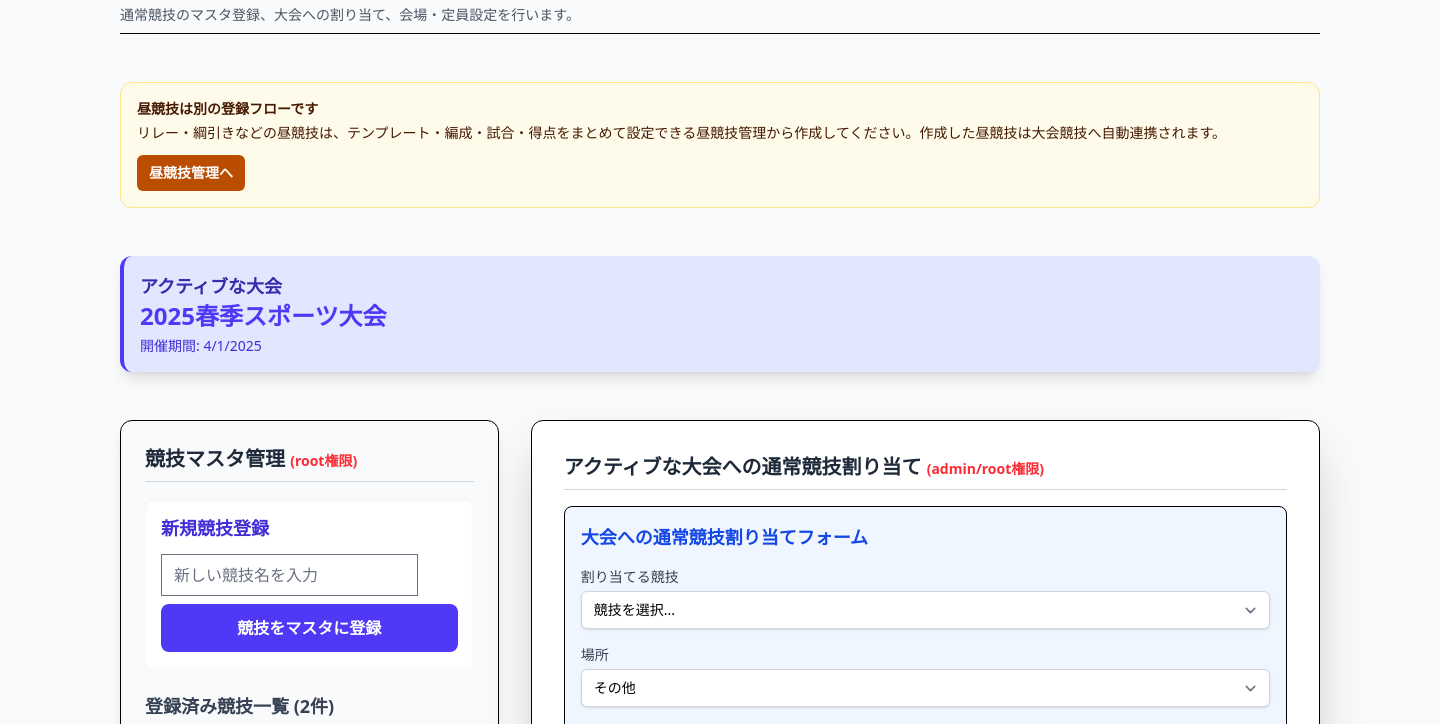
Scenario: Sport Management Page › 場所がその他のとき具体的な場所を入力して表示できること
The image size is (1440, 724).
Select "バレーボール" in the dropdown labelled "割り当てる競技" at x=925, y=610, box 581,591 -> 1270,629
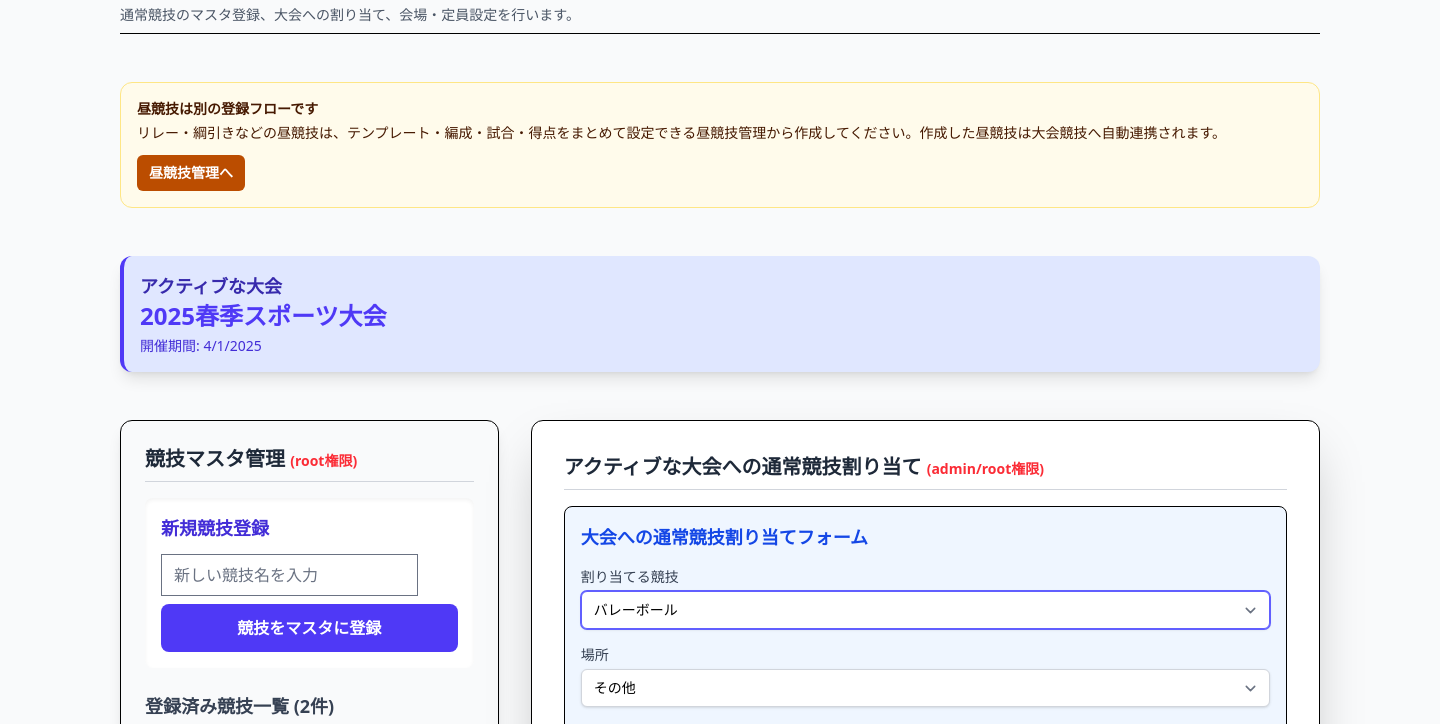
Select "その他" in the dropdown labelled "場所" at x=925, y=688, box 581,669 -> 1270,707
(page scrolled)
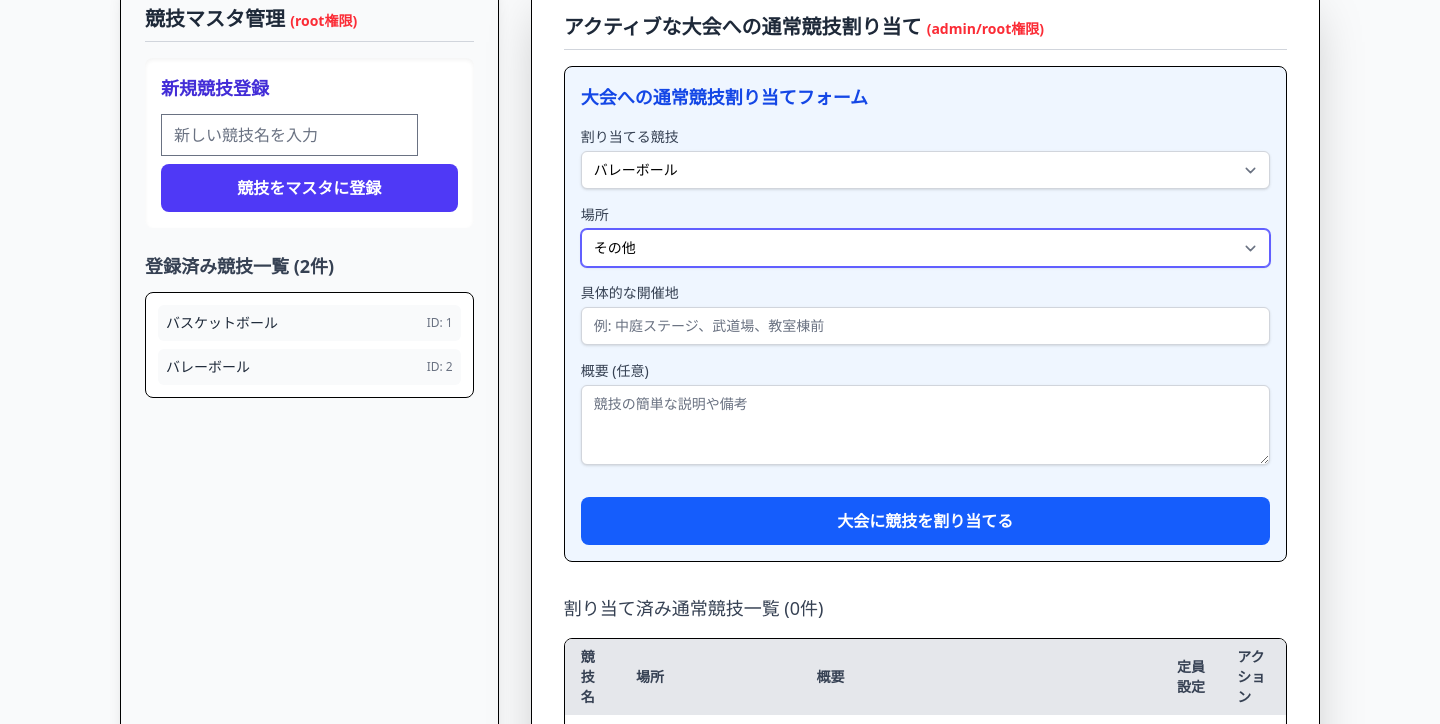
Type "中庭ステージ" into the field labelled "具体的な開催地" at x=925, y=326, box 581,307 -> 1270,345
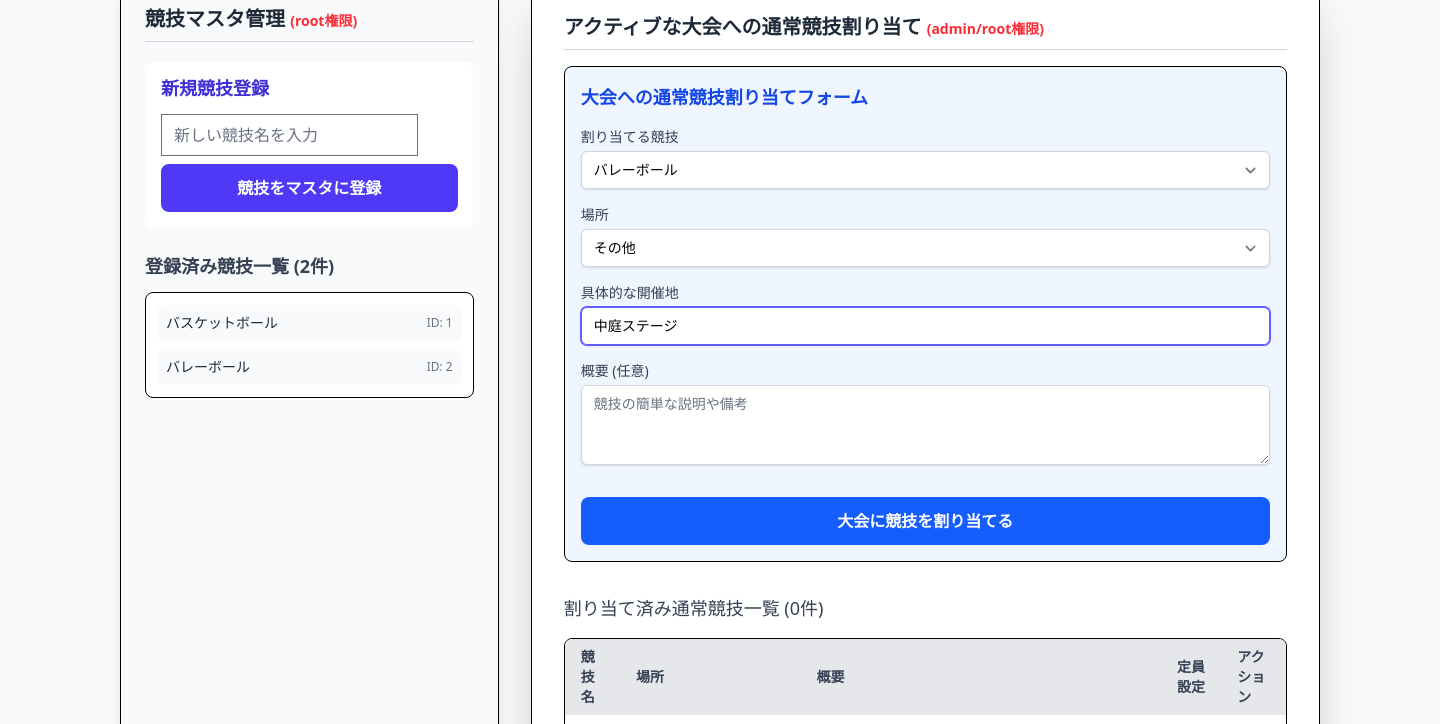
Click the button "大会に競技を割り当てる" at x=925, y=521, box 581,497 -> 1270,545
(page scrolled)
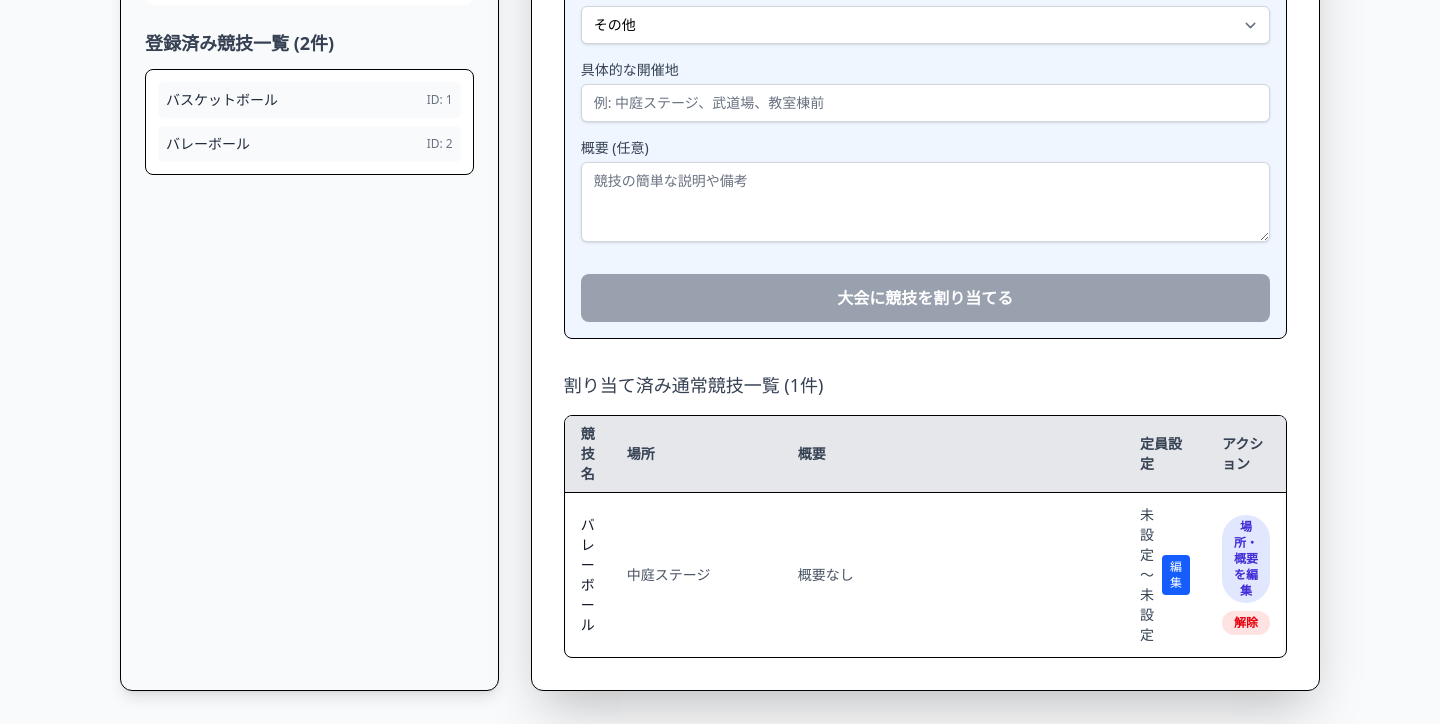
Result: the cell "中庭ステージ" is shown at 611,492 -> 782,657
